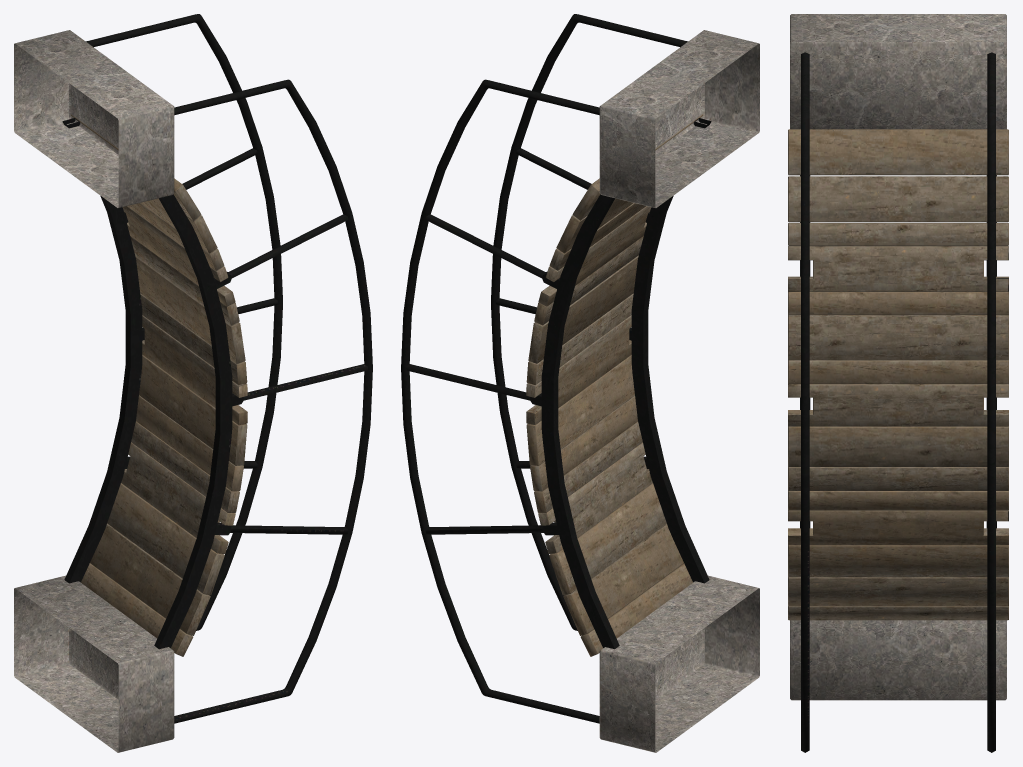
The model's file is cP_Bridge.dae.
3 renders of one model, left to right at view 1: azimuth 30°, elevation 25°; view 2: azimuth 150°, elevation 25°; view 3: azimuth 270°, elevation 25°, orthographic. The views are drawn at different scales.
Parts seen in each view (by area): view 1: cP_Bridge.001; view 2: cP_Bridge.001; view 3: cP_Bridge.001.
Part boxes in pixels (bbox=[...]): cP_Bridge.001: bbox=[14, 14, 372, 752]; cP_Bridge.001: bbox=[401, 14, 759, 752]; cP_Bridge.001: bbox=[788, 14, 1008, 752].
Bounding box in the file's own units: 2.41 × 1.69 × 5.57.
